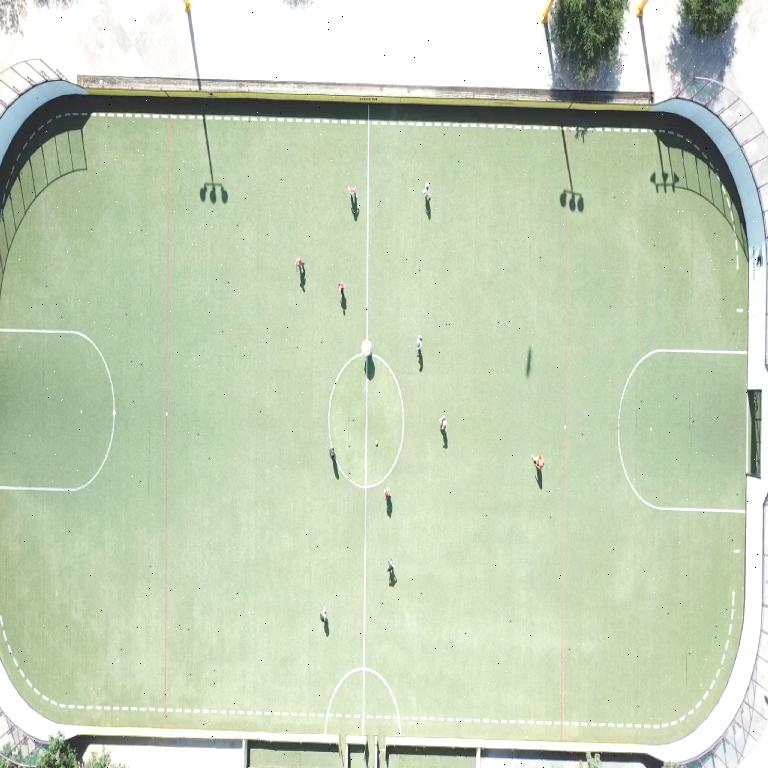AC: (617, 349, 746, 514), (0, 329, 115, 492)
B: (374, 439, 378, 446)
MC: (362, 361, 368, 734)
P: (531, 455, 544, 471), (361, 339, 371, 356), (348, 186, 356, 206), (387, 558, 394, 578), (320, 607, 328, 624), (295, 258, 304, 273), (423, 182, 430, 201), (338, 282, 344, 301), (329, 446, 335, 462), (417, 335, 422, 354), (440, 416, 446, 431), (385, 487, 391, 501)
